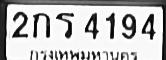1: (105, 11, 114, 38)
2: (11, 11, 27, 38)
4: (84, 12, 98, 38), (141, 12, 154, 39)
9: (121, 12, 135, 38)
A01: (32, 11, 49, 37)
A35: (55, 11, 74, 38)
BKK: (27, 47, 140, 60)
